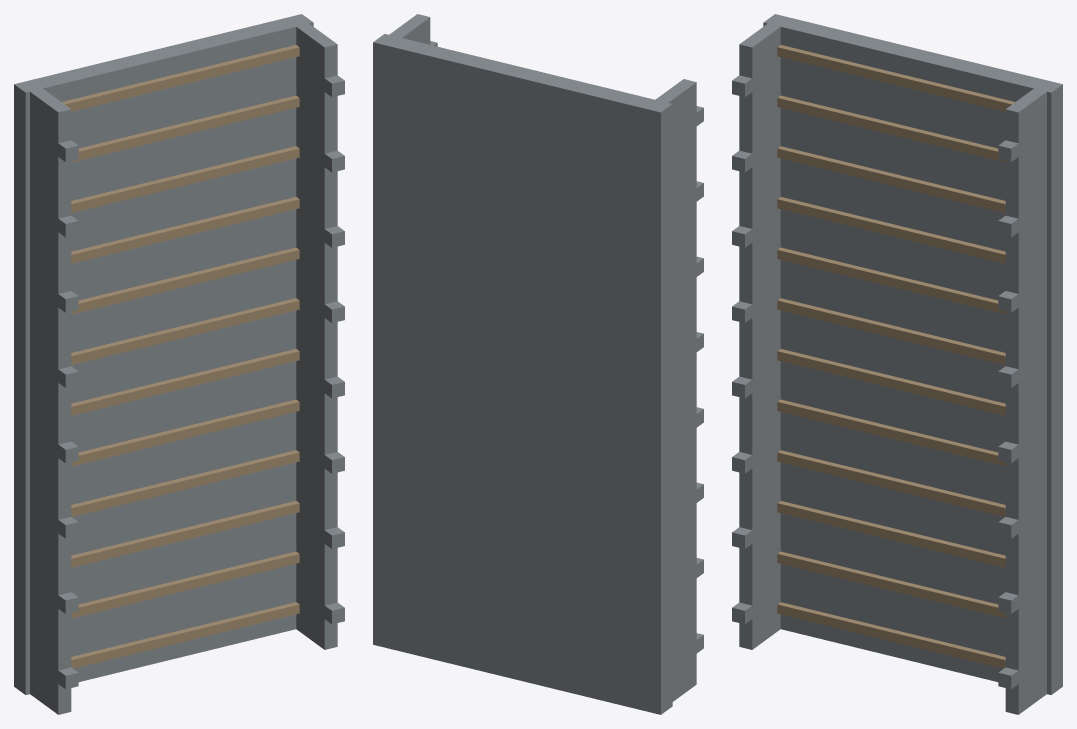
The model's file is stone_steel_bridge.glb.
3 views of the same model, side by side, from view 1: azimuth 30°, elevation 25°; view 2: azimuth 150°, elevation 25°; view 3: azimuth 330°, elevation 25° (orthographic).
Parts seen in each view (by area): view 1: deck, rail_-1.85, rail_1.85, plank_3.7, plank_-0.3363636363636364, plank_1.6818181818181817, plank_2.3545454545454545, plank_-3.7, plank_-2.3545454545454545, plank_-1.681818181818182, plank_0.336363636363636, plank_-3.0272727272727273 (+16 smaller); view 2: deck, rail_-1.85, rail_1.85; view 3: deck, rail_1.85, rail_-1.85, plank_3.7, plank_-0.3363636363636364, plank_1.6818181818181817, plank_2.3545454545454545, plank_-3.7, plank_-2.3545454545454545, plank_-1.681818181818182, plank_0.336363636363636, plank_-3.0272727272727273 (+5 smaller).
Boxes of the visible parts, x1,y1,x2,y2 form: deck: (14, 14, 313, 694); rail_-1.85: (28, 86, 71, 714); rail_1.85: (295, 21, 337, 649); plank_3.7: (62, 45, 299, 111); plank_-0.3363636363636364: (71, 349, 299, 415); plank_1.6818181818181817: (71, 197, 299, 263); plank_2.3545454545454545: (71, 146, 299, 213); plank_-3.7: (71, 602, 299, 668); plank_-2.3545454545454545: (71, 501, 299, 567); plank_-1.681818181818182: (71, 450, 299, 516); plank_0.336363636363636: (71, 298, 299, 364); plank_-3.0272727272727273: (71, 551, 299, 618); deck: (373, 34, 672, 714); rail_-1.85: (655, 79, 696, 701); rail_1.85: (388, 14, 430, 44); deck: (763, 14, 1062, 694); rail_1.85: (1005, 86, 1049, 714); rail_-1.85: (739, 21, 781, 649); plank_3.7: (777, 45, 1014, 111); plank_-0.3363636363636364: (777, 349, 1005, 415); plank_1.6818181818181817: (777, 197, 1005, 263); plank_2.3545454545454545: (777, 146, 1005, 213); plank_-3.7: (777, 602, 1005, 668); plank_-2.3545454545454545: (777, 501, 1005, 567); plank_-1.681818181818182: (777, 450, 1005, 516); plank_0.336363636363636: (777, 298, 1005, 364); plank_-3.0272727272727273: (777, 551, 1005, 618).
Bounding box in the file's own units: 4 × 8 × 1.14.
